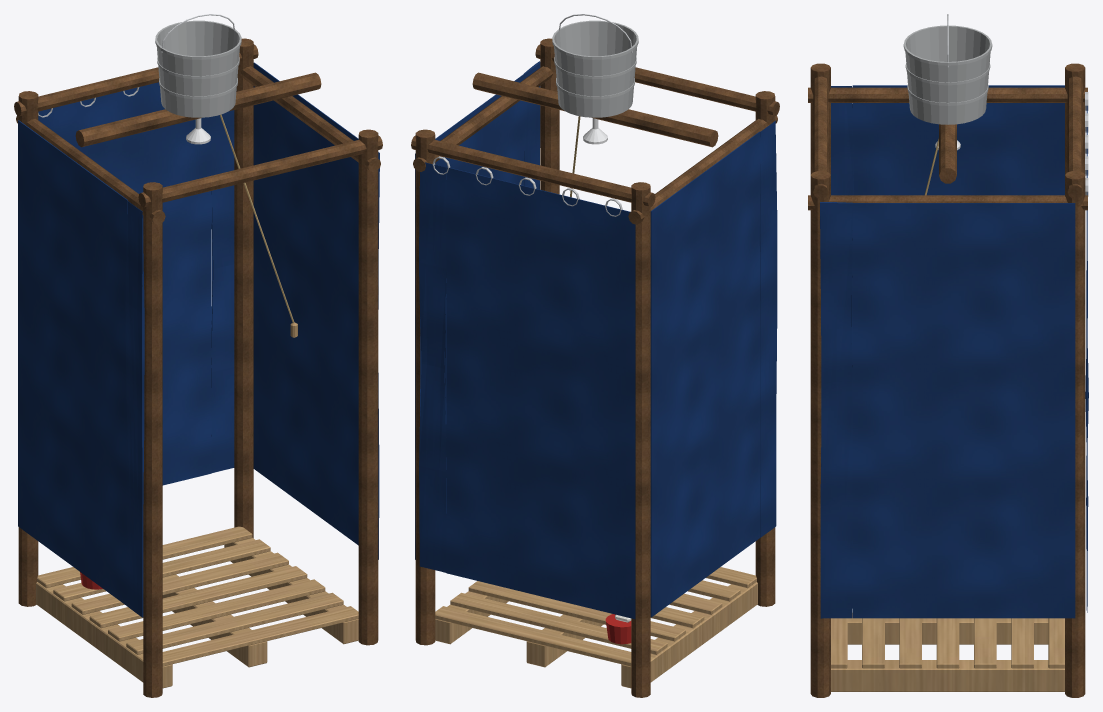
The model's file is chuveiro_balde.glb.
3 renders of one model, left to right at view 1: azimuth 30°, elevation 25°; view 2: azimuth 150°, elevation 25°; view 3: azimuth 270°, elevation 25°, orthographic. The views are drawn at different scales.
Visible parts, largest first — view 1: chuveiro_balde_lona_azul, chuveiro_balde_madeira_lenha, chuveiro_balde_madeira_crua, chuveiro_balde_balde_zinco; view 2: chuveiro_balde_lona_azul, chuveiro_balde_madeira_lenha, chuveiro_balde_madeira_crua, chuveiro_balde_balde_zinco, chuveiro_balde_aco, chuveiro_balde_plastico_vermelho; view 3: chuveiro_balde_lona_azul, chuveiro_balde_madeira_lenha, chuveiro_balde_madeira_crua, chuveiro_balde_balde_zinco, chuveiro_balde_aco.
Boxes of the visible parts, x1,y1,x2,y2 form: chuveiro_balde_lona_azul: (18, 62, 379, 617); chuveiro_balde_madeira_lenha: (14, 38, 382, 697); chuveiro_balde_madeira_crua: (36, 322, 358, 688); chuveiro_balde_balde_zinco: (155, 20, 241, 117); chuveiro_balde_lona_azul: (415, 61, 777, 619); chuveiro_balde_madeira_lenha: (411, 38, 779, 697); chuveiro_balde_madeira_crua: (435, 567, 757, 688); chuveiro_balde_balde_zinco: (552, 20, 638, 117); chuveiro_balde_aco: (432, 14, 632, 216); chuveiro_balde_plastico_vermelho: (605, 614, 631, 644); chuveiro_balde_lona_azul: (820, 85, 1088, 618); chuveiro_balde_madeira_lenha: (808, 63, 1087, 697); chuveiro_balde_madeira_crua: (831, 613, 1064, 691); chuveiro_balde_balde_zinco: (903, 25, 992, 124); chuveiro_balde_aco: (947, 14, 1088, 196).
Bounding box in the file's own units: 1.11 × 2.69 × 1.1.
Materials: 10 (4 with a texture image).
